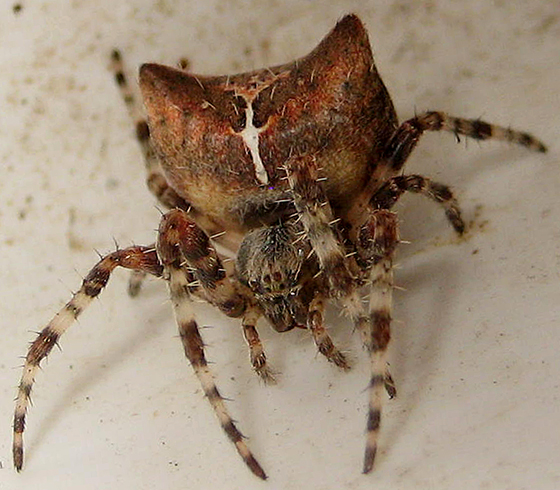spider: (3, 2, 555, 485)
